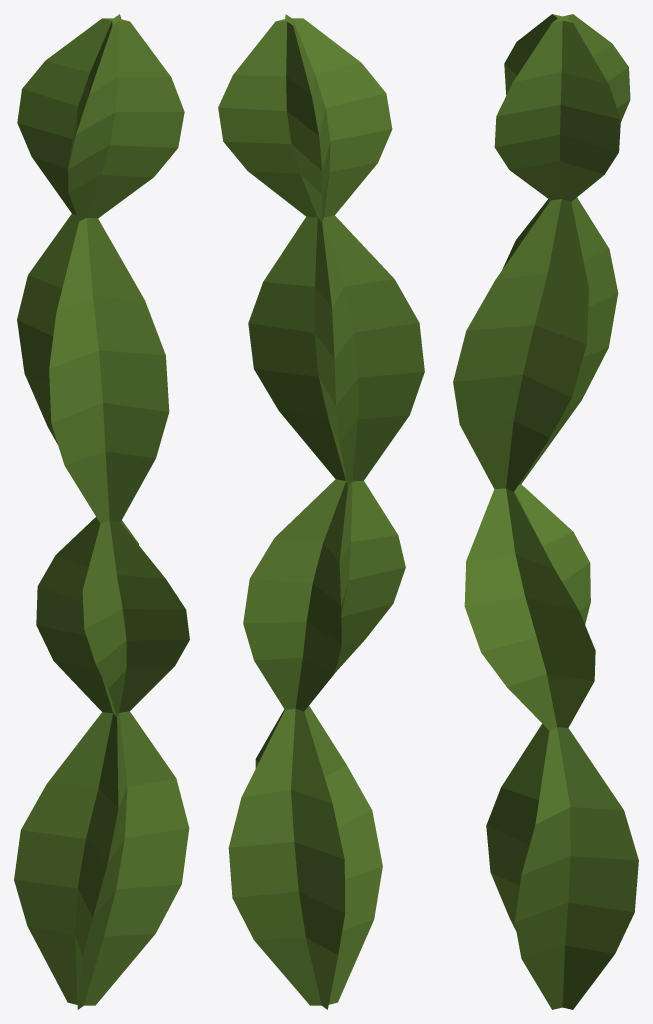
The model's file is Cactus_12.fbx.
3 views of the same model, side by side, from view 1: azimuth 30°, elevation 25°; view 2: azimuth 150°, elevation 25°; view 3: azimuth 270°, elevation 25° (orthographic). The views are drawn at different scales.
Parts seen in each view (by area): view 1: Cactus_12; view 2: Cactus_12; view 3: Cactus_12.
Part boxes in pixels (x1=…): Cactus_12: x1=14, y1=14, x2=189, y2=1009; Cactus_12: x1=218, y1=14, x2=424, y2=1009; Cactus_12: x1=453, y1=14, x2=638, y2=1009.
Size of the model in its own units: 18.84 by 19.22 by 115.
